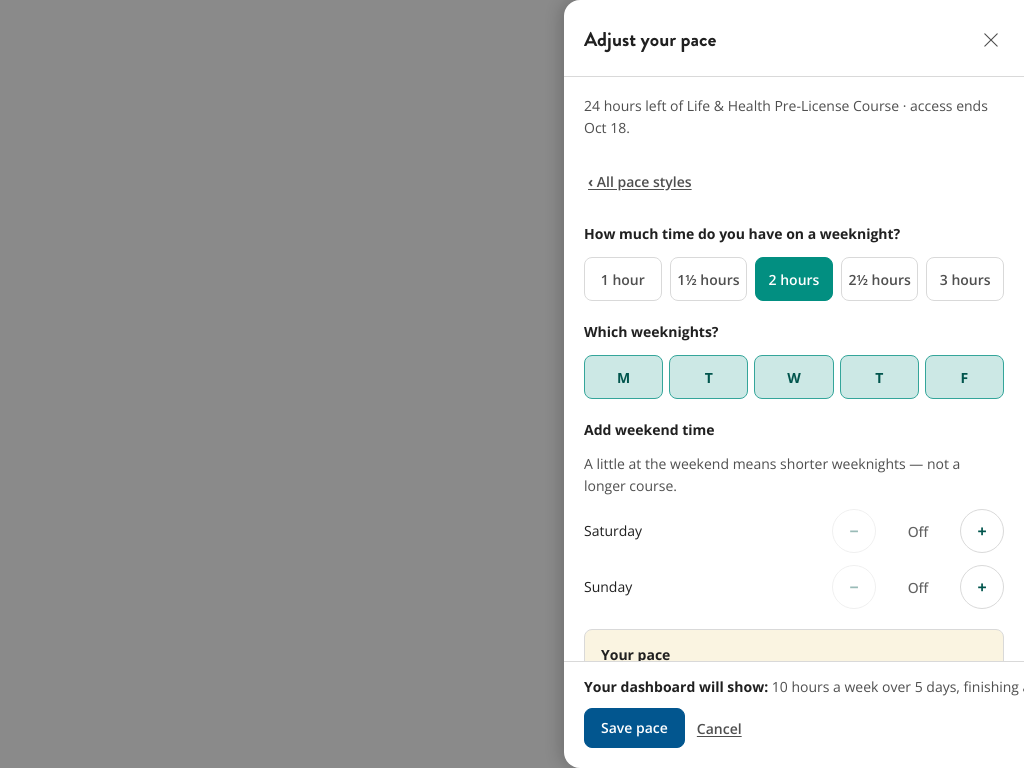
StudyPaceSheet — the chooser › goes back out of a style to the chooser
Expected: the element named "Which weeknights?" is shown, [584, 355, 1004, 399]
What coordinates should you click on to do the following:
click the button "‹ All pace styles"
I would click on:
 (640, 181)
Its box is [584, 159, 696, 203].
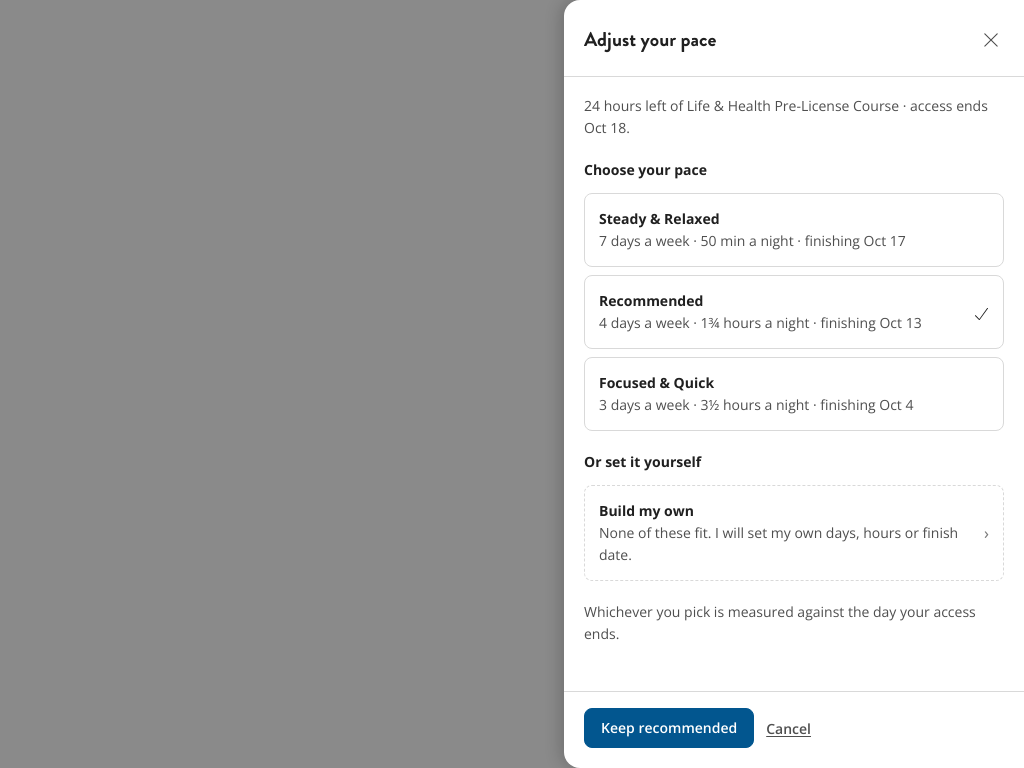
Expected: the element named "Study pace" is shown, [584, 193, 1004, 431]
